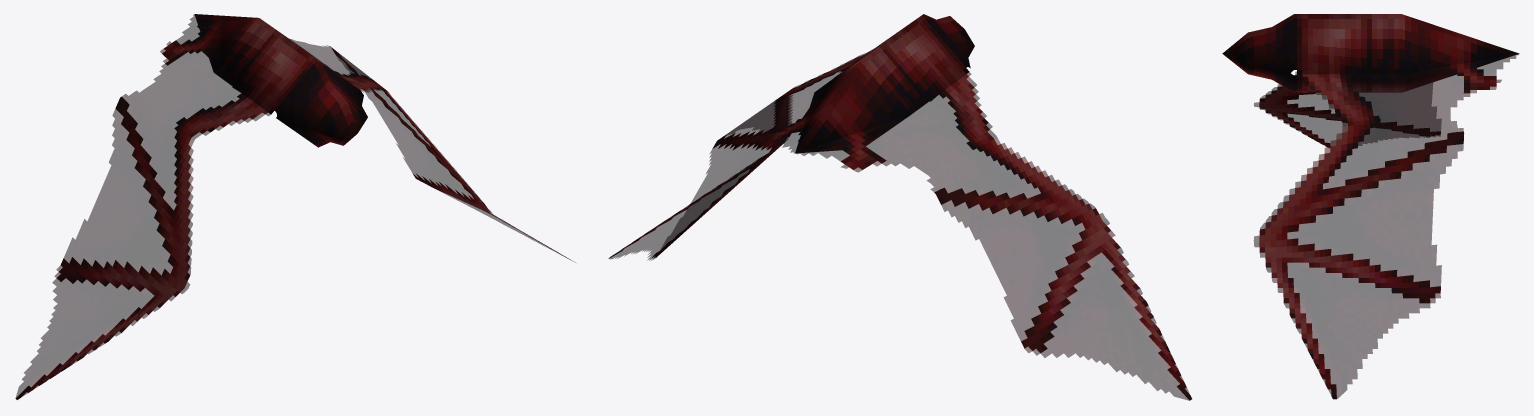
3 views of the same model, side by side, from view 1: azimuth 30°, elevation 25°; view 2: azimuth 150°, elevation 25°; view 3: azimuth 270°, elevation 25° (orthographic). The views are drawn at different scales.
Visible parts, largest first — view 1: Joke_obj_041; view 2: Joke_obj_041; view 3: Joke_obj_041.
Part boxes in pixels (left/top/right/bottom): Joke_obj_041: left=15, top=14, right=575, bottom=399; Joke_obj_041: left=608, top=14, right=1191, bottom=400; Joke_obj_041: left=1222, top=14, right=1519, bottom=399.
Bounding box in the file's own units: 1.93 × 0.9434 × 0.9688.
Materials: 2 (2 with a texture image).
